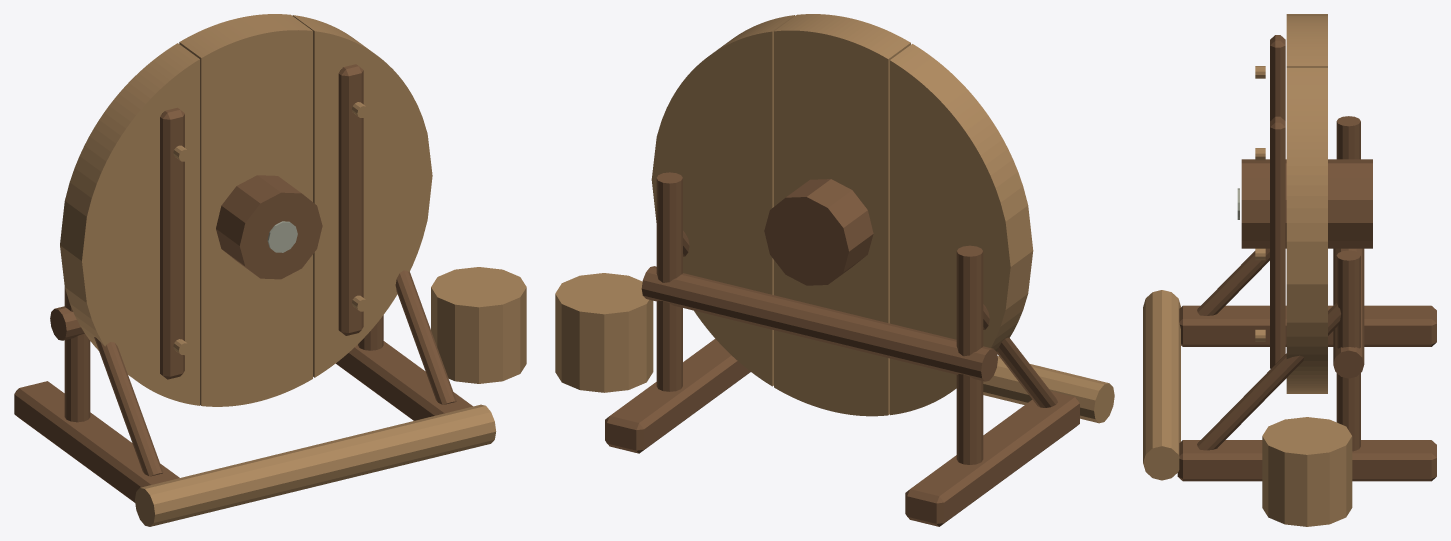
3 views of the same model, side by side, from view 1: azimuth 30°, elevation 25°; view 2: azimuth 150°, elevation 25°; view 3: azimuth 270°, elevation 25° (orthographic). The views are drawn at different scales.
Parts seen in each view (by area): view 1: BA-0058 batched; view 2: BA-0058 batched; view 3: BA-0058 batched.
Boxes of the visible parts, x1,y1,x2,y2 form: BA-0058 batched: (14,14,526,526); BA-0058 batched: (555,14,1114,526); BA-0058 batched: (1143,14,1436,526).
Bounding box in the file's own units: 1.42 × 1.2 × 0.85.
